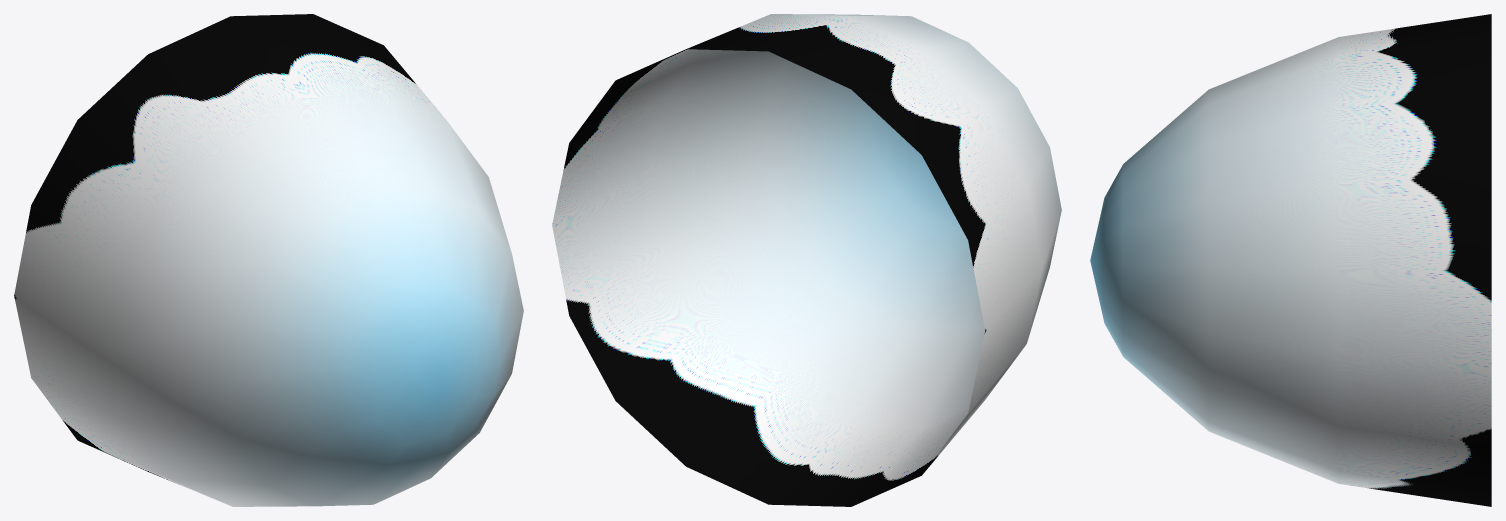
File: topeffect.fbx
The picture shows the model from 3 angles, left to right: view 1: azimuth 30°, elevation 25°; view 2: azimuth 150°, elevation 25°; view 3: azimuth 270°, elevation 25°; orthographic projection.
Parts seen in each view (by area): view 1: obj1; view 2: obj1; view 3: obj1.
Boxes of the visible parts, x1=… form: obj1: x1=14, y1=14, x2=523, y2=506; obj1: x1=552, y1=14, x2=1061, y2=506; obj1: x1=1090, y1=14, x2=1491, y2=506.
Size of the model in its own units: 101 by 101 by 82.24.
Materials: 1 (1 with a texture image).
